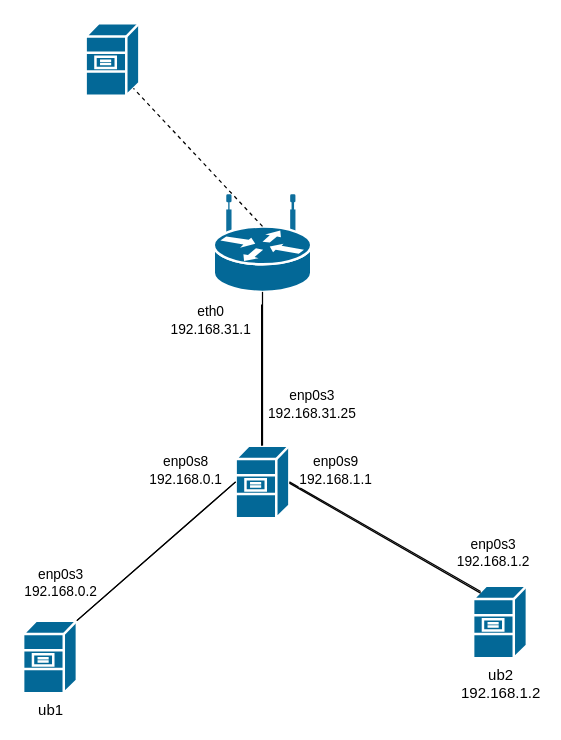
Some shapes in this 561 by 740 pixel diagram are drawn without their labels. Each missing label, with the box of its shape:
Internet 8.8.8.8: (84, 21, 140, 96)
ub-nat: (234, 444, 290, 519)
